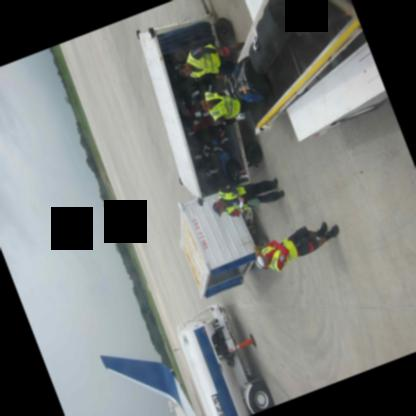suitcase: (213, 54, 271, 183), (248, 0, 291, 74), (285, 0, 349, 33)
